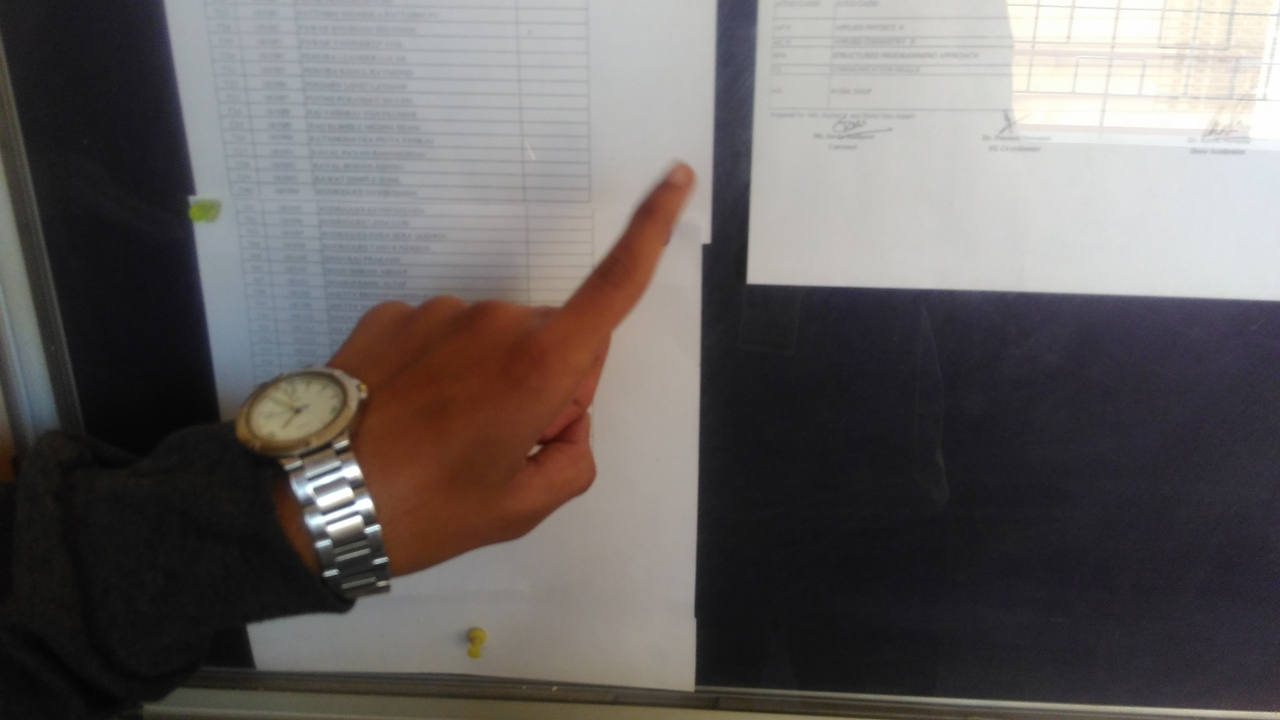fingertip: (642, 150, 700, 196)
